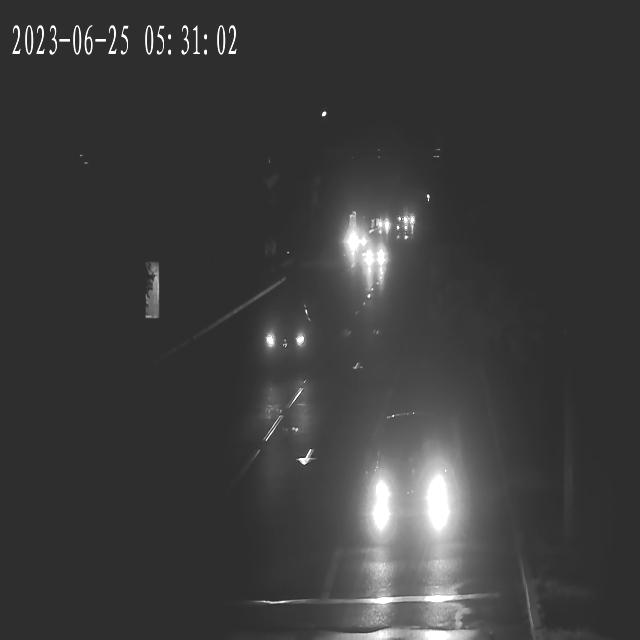Car: (362, 413, 466, 574), (258, 297, 312, 369), (358, 234, 392, 272), (346, 221, 368, 255), (372, 212, 394, 237), (402, 212, 420, 239)
